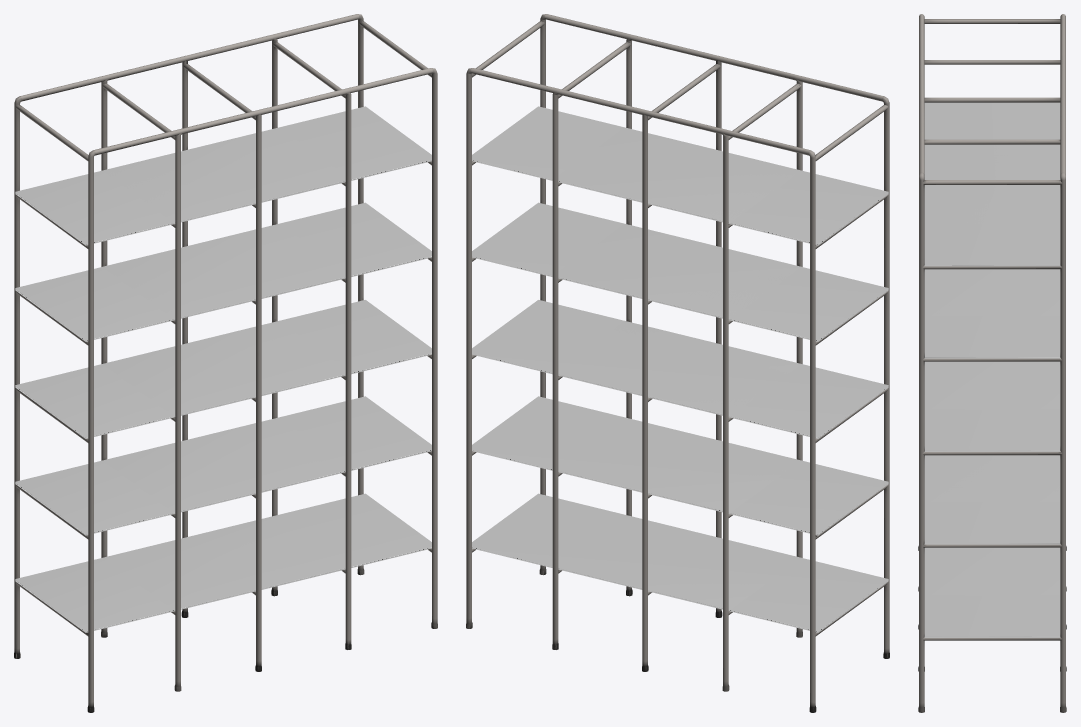
File: glasvirtrinen.fbx
3 renders of one model, left to right at view 1: azimuth 30°, elevation 25°; view 2: azimuth 150°, elevation 25°; view 3: azimuth 270°, elevation 25°, orthographic. The views are drawn at different scales.
Visible parts, largest first — view 1: Mesh_ncl1_1, Mesh; view 2: Mesh_ncl1_1, Mesh; view 3: Mesh_ncl1_1, Mesh.
Boxes of the visible parts, left/top/right/bottom form: Mesh_ncl1_1: left=14, top=14, right=437, bottom=712; Mesh: left=101, top=35, right=351, bottom=691; Mesh_ncl1_1: left=466, top=14, right=889, bottom=712; Mesh: left=552, top=35, right=802, bottom=691; Mesh_ncl1_1: left=918, top=14, right=1066, bottom=712; Mesh: left=918, top=55, right=1066, bottom=671.
Bounding box in the file's own units: 119 × 182 × 45.36.
